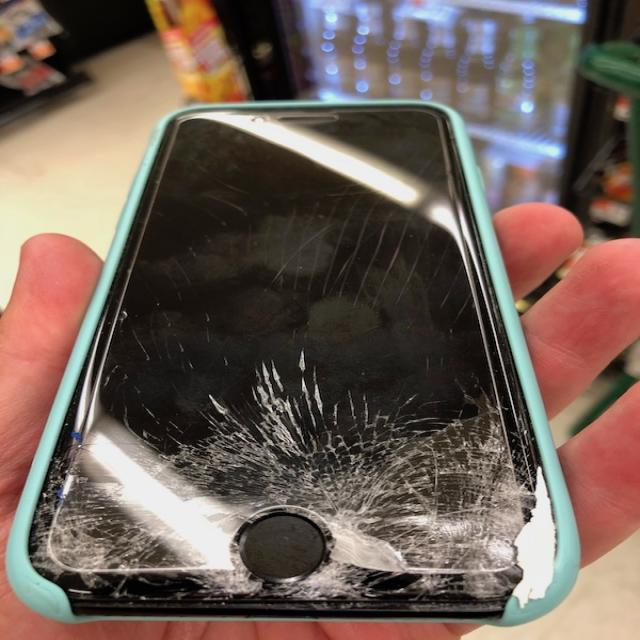phones: (7, 102, 574, 622)
